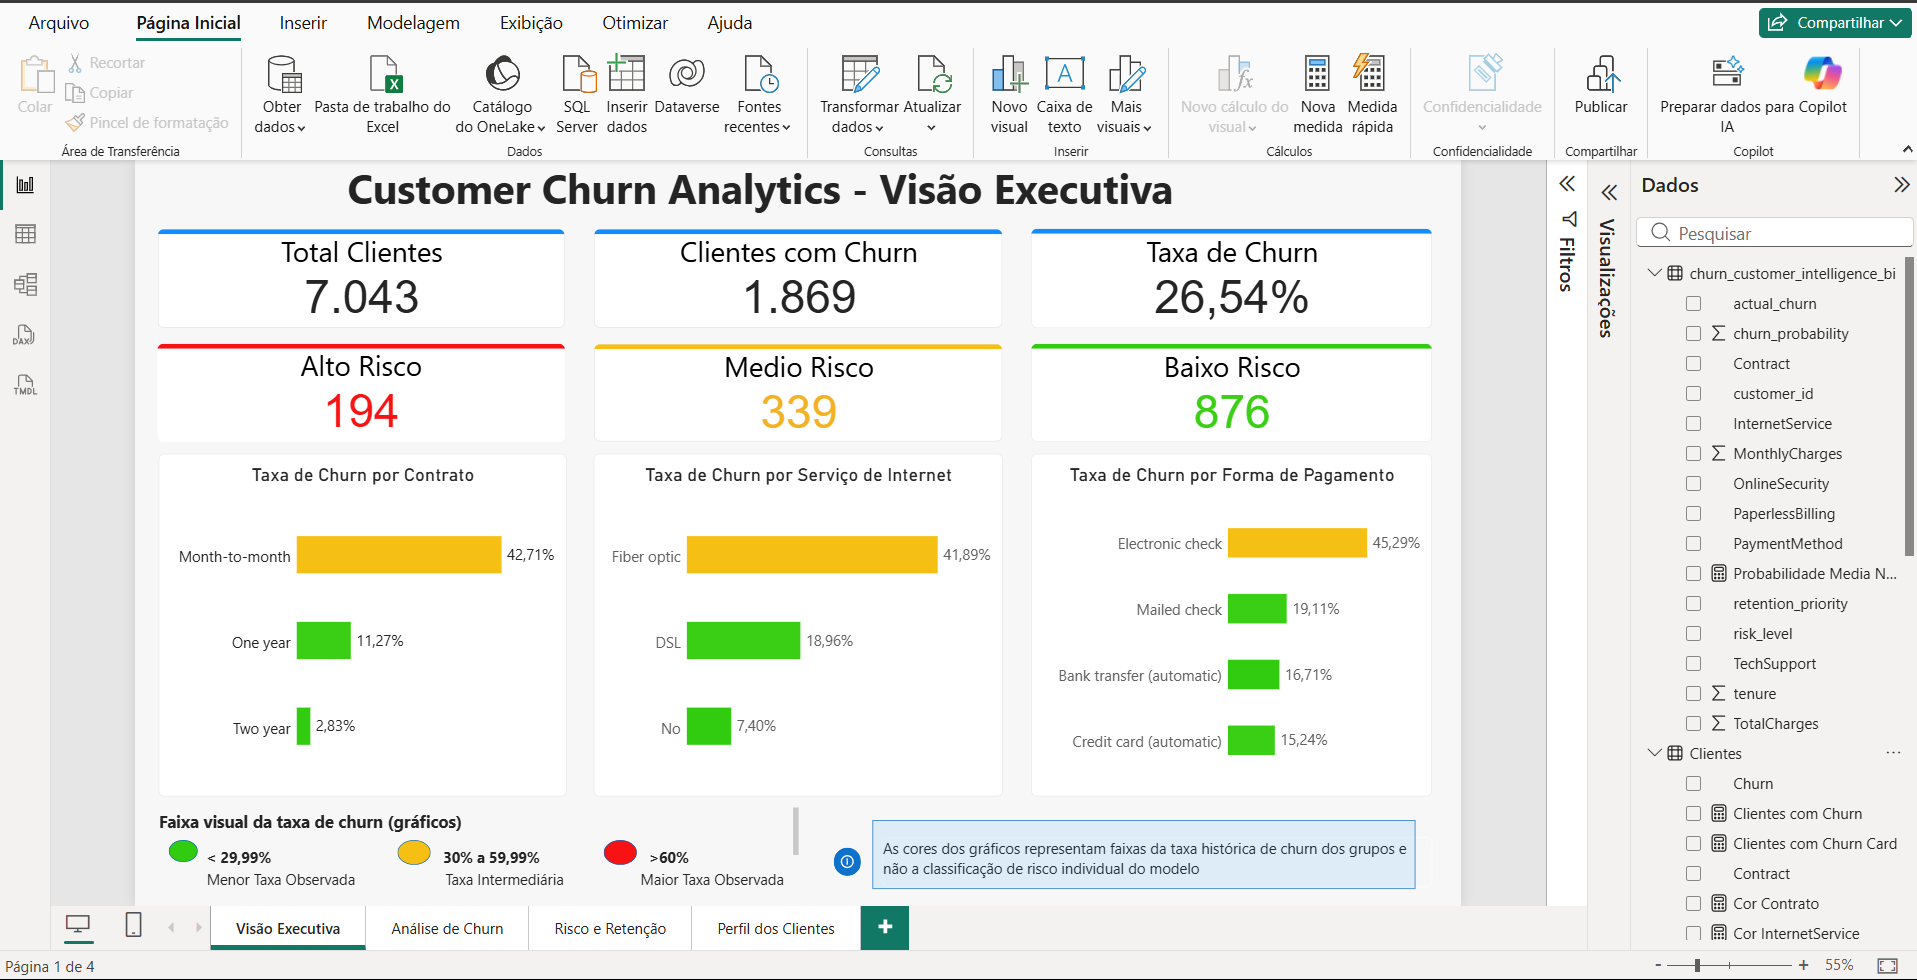

The dashboard page shown, as its layout file describes it:
{"tool":"powerbi","page":{"name":"Visão Executiva","canvas":[1920,1080],"ordinal":0},"visuals":[{"type":"textbox","box":[10,0,280,280],"z":0},{"type":"textbox","box":[0,0,1920,84],"z":1000},{"type":"cardVisual","fields":{"Data":["Clientes.Total Clientes Card"]},"box":[32,100,590,144],"z":2000},{"type":"cardVisual","fields":{"Data":["Clientes.Clientes com Churn Card"]},"box":[664,100,592,144],"z":3000},{"type":"cardVisual","fields":{"Data":["Clientes.Taxa de Churn Card"]},"box":[1298,100,580,144],"z":4000},{"type":"cardVisual","fields":{"Data":["RiscoRetencao.Alto Risco"]},"box":[32,266,590,142],"z":5000},{"type":"cardVisual","fields":{"Data":["RiscoRetencao.Medio Risco"]},"box":[664,266,592,142],"z":6000},{"type":"cardVisual","fields":{"Data":["RiscoRetencao.Baixo Risco"]},"box":[1298,266,580,142],"z":7000},{"type":"clusteredBarChart","title":"Taxa de Churn por Contrato","fields":{"Category":["Clientes.Contract"],"Y":["Clientes.Taxa de Churn"]},"box":[34,426,590,496],"z":8000},{"type":"clusteredBarChart","title":"Taxa de Churn por Serviço de Internet","fields":{"Category":["Clientes.InternetService"],"Y":["Clientes.Taxa de Churn"]},"box":[664,426,592,496],"z":9000},{"type":"clusteredBarChart","title":"Taxa de Churn por Forma de Pagamento","fields":{"Category":["Clientes.PaymentMethod"],"Y":["Clientes.Taxa de Churn"]},"box":[1298,426,580,496],"z":10000},{"type":"textbox","box":[34,938,926,114],"z":11000},{"type":"shape","box":[678,984,48,36],"z":12000},{"type":"shape","box":[380,984,48,36],"z":13000},{"type":"shape","box":[48,984,42,32],"z":14000},{"type":"actionButton","box":[1012,984,40,44],"z":15000},{"type":"textbox","box":[1082,980,796,72],"z":16000},{"type":"shape","box":[1068,956,786,100],"z":17000}]}

Visuals, with their boxes on the page's 1920x1080 design canvas (x1, y1, x2, y2). These are canvas units, not pixel positions in the 1917x980 screenshot, which may show the page scaled, cropped or inside an application window:
textbox: rect(10, 0, 290, 280)
textbox: rect(0, 0, 1920, 84)
cardVisual - Clientes.Total Clientes Card: rect(32, 100, 622, 244)
cardVisual - Clientes.Clientes com Churn Card: rect(664, 100, 1256, 244)
cardVisual - Clientes.Taxa de Churn Card: rect(1298, 100, 1878, 244)
cardVisual - RiscoRetencao.Alto Risco: rect(32, 266, 622, 408)
cardVisual - RiscoRetencao.Medio Risco: rect(664, 266, 1256, 408)
cardVisual - RiscoRetencao.Baixo Risco: rect(1298, 266, 1878, 408)
"Taxa de Churn por Contrato" clusteredBarChart: rect(34, 426, 624, 922)
"Taxa de Churn por Serviço de Internet" clusteredBarChart: rect(664, 426, 1256, 922)
"Taxa de Churn por Forma de Pagamento" clusteredBarChart: rect(1298, 426, 1878, 922)
textbox: rect(34, 938, 960, 1052)
shape: rect(678, 984, 726, 1020)
shape: rect(380, 984, 428, 1020)
shape: rect(48, 984, 90, 1016)
actionButton: rect(1012, 984, 1052, 1028)
textbox: rect(1082, 980, 1878, 1052)
shape: rect(1068, 956, 1854, 1056)
